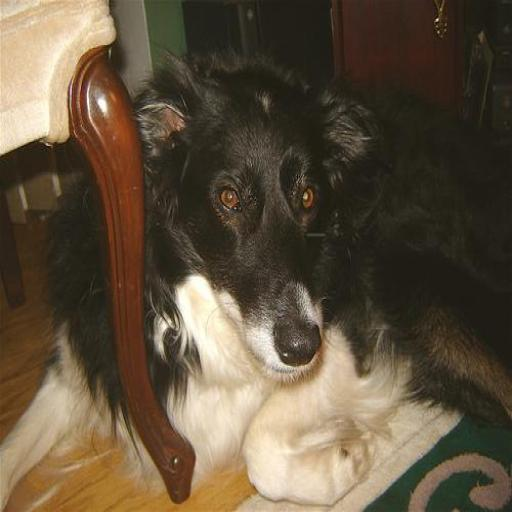dog_face: (137, 62, 384, 379)
